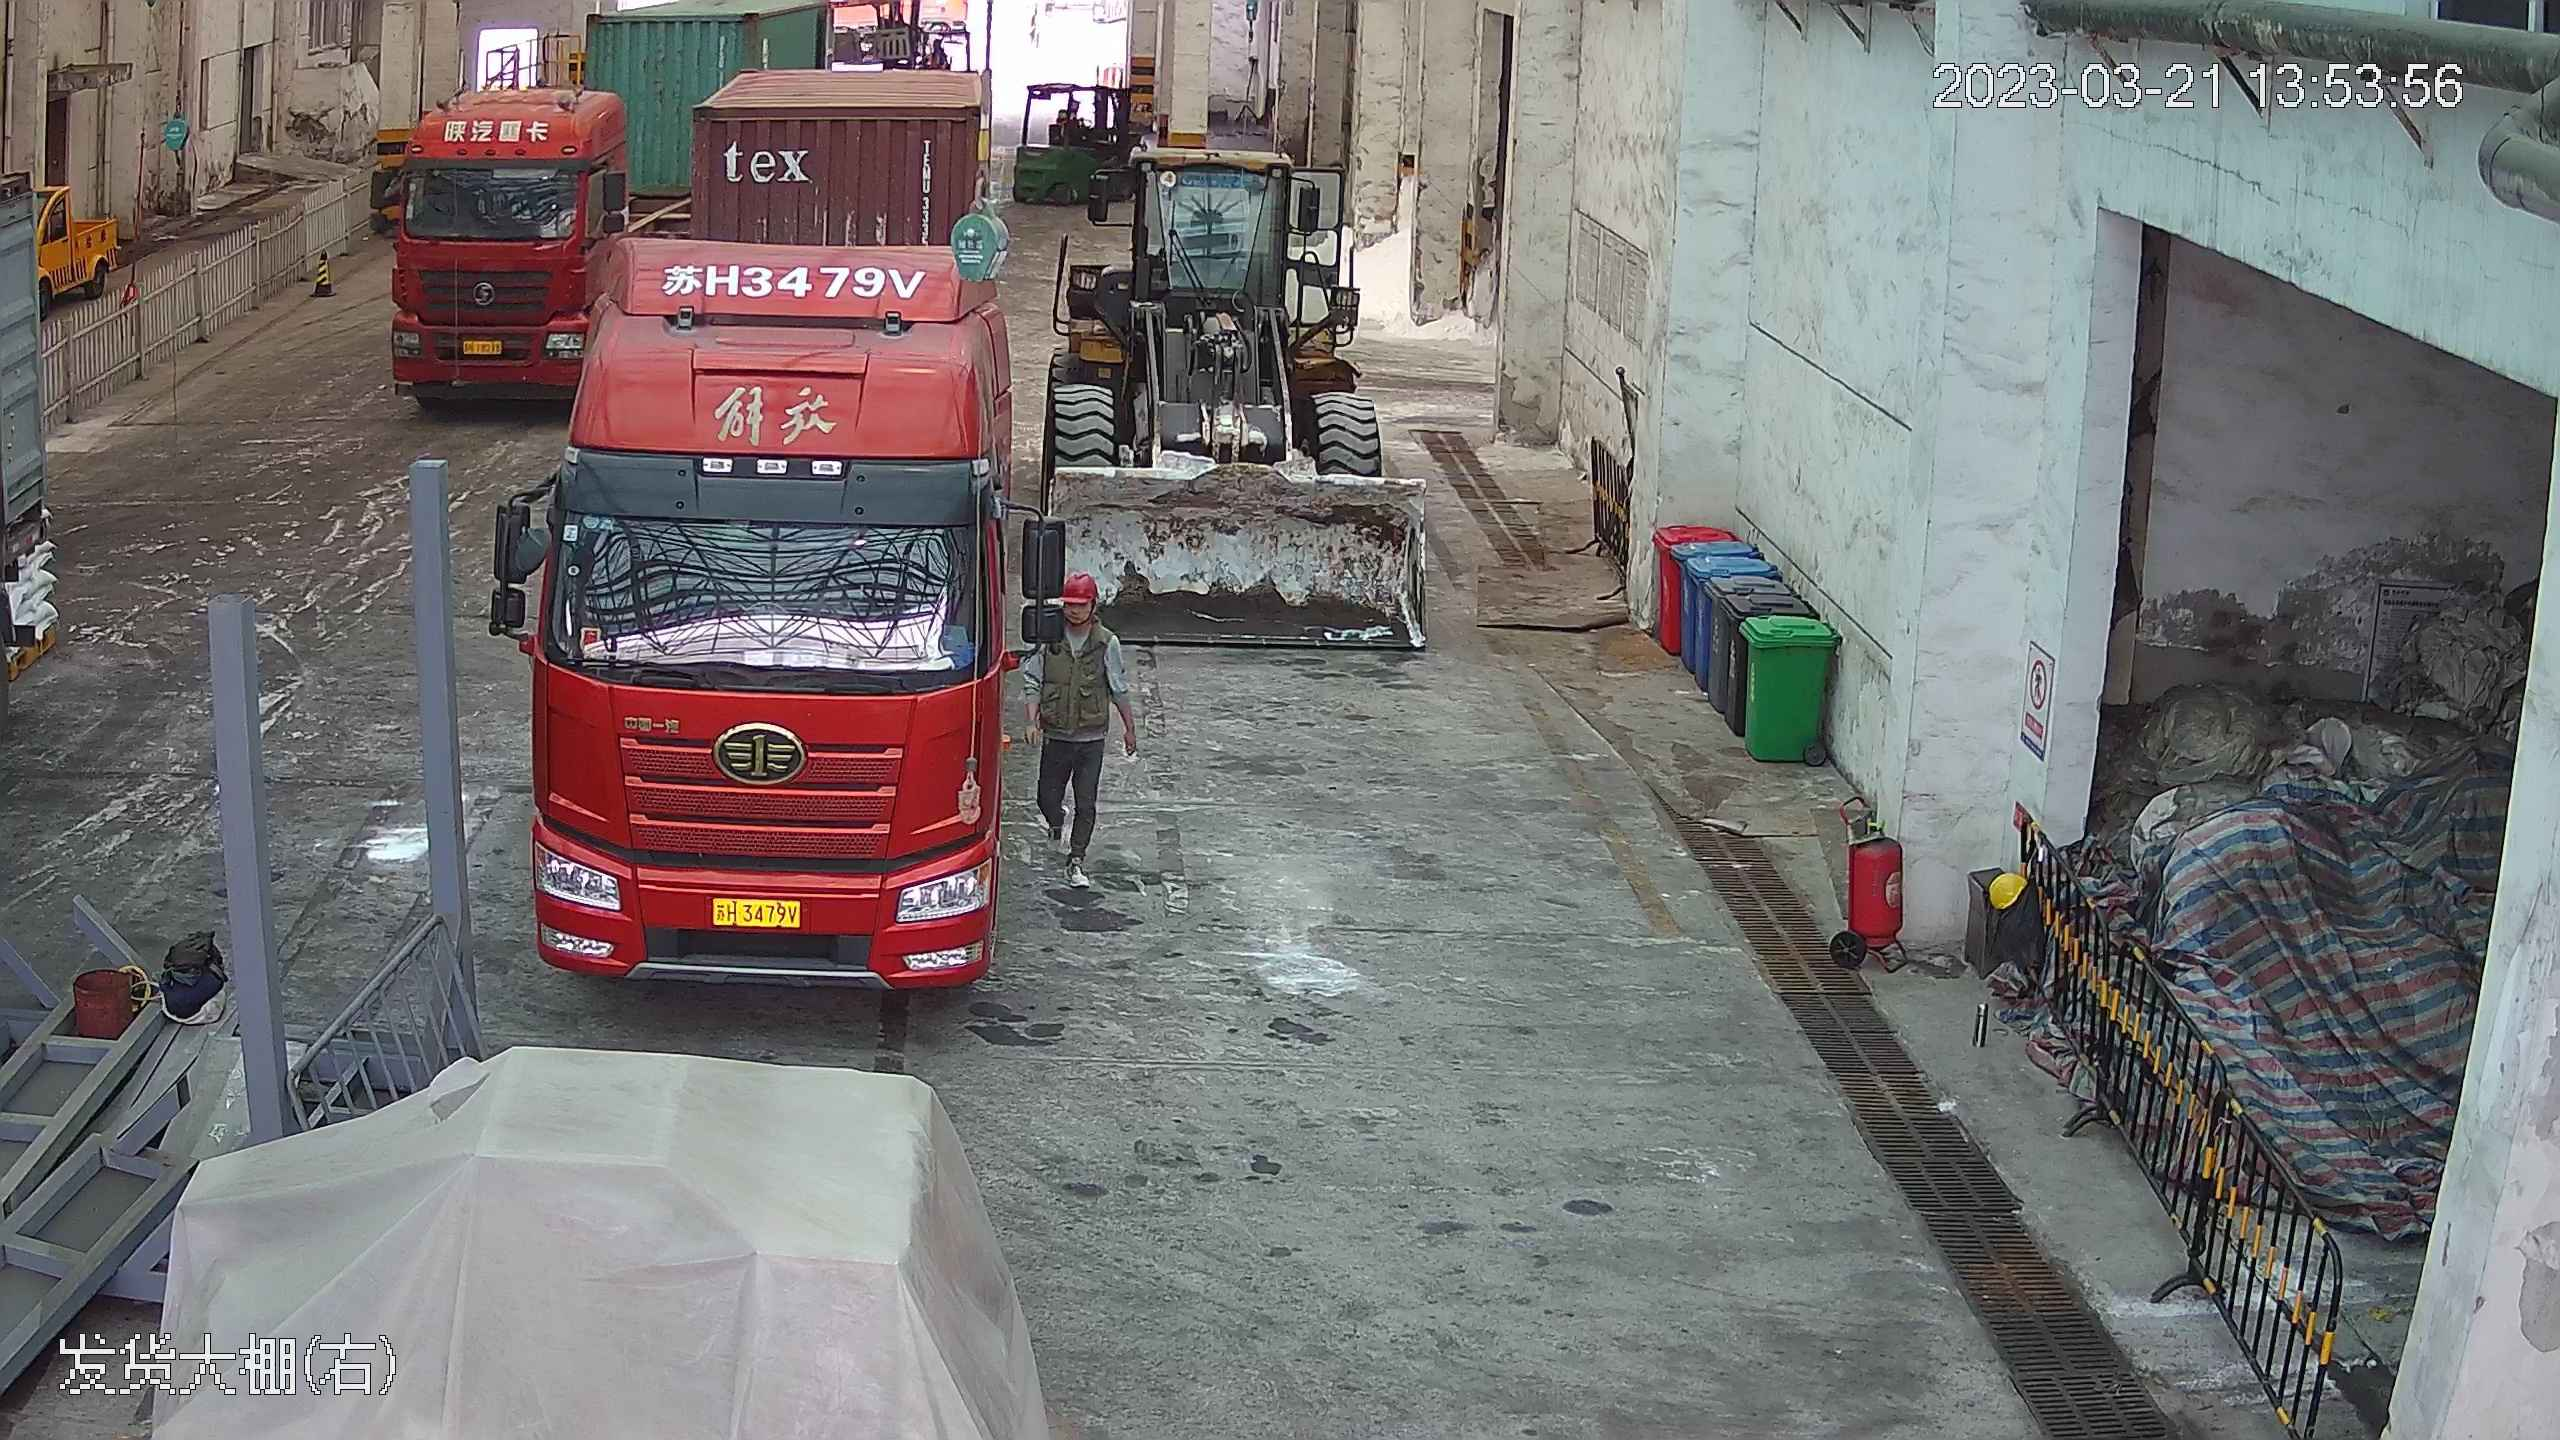head: (1033, 567, 1120, 674)
helmet: (1985, 866, 2029, 913), (1057, 567, 1103, 607)
people: (1020, 567, 1130, 864)
truck: (513, 29, 1034, 993), (369, 16, 636, 406)
